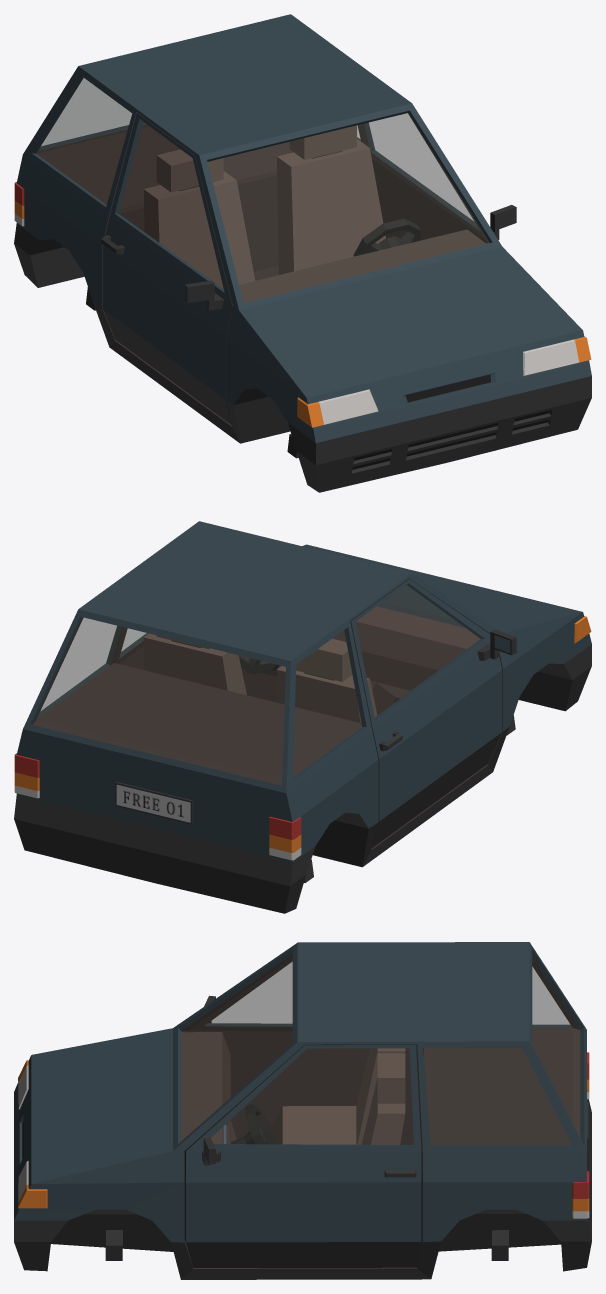
File: lowPolyTruck.gltf
The picture shows the model from 3 angles, top to bottom: view 1: azimuth 30°, elevation 25°; view 2: azimuth 150°, elevation 25°; view 3: azimuth 270°, elevation 25°; orthographic projection. The views are drawn at different scales.
Parts seen in each view (by area): view 1: car body, windows, interior, door r, win door r.001, door l, win door l.001; view 2: car body, windows, door r, interior, win door r.001, free number, door l; view 3: car body, door l, windows, win door l.001, interior, door r, win door r.001.
Part boxes in pixels (x1,y1,x2,y2): car body: [14, 14, 591, 492]; windows: [37, 78, 489, 302]; interior: [143, 125, 485, 302]; door r: [101, 113, 232, 424]; win door r.001: [119, 122, 223, 288]; door l: [360, 113, 516, 243]; win door l.001: [365, 113, 478, 229]; car body: [14, 521, 591, 913]; windows: [33, 585, 464, 785]; door r: [350, 579, 516, 847]; interior: [143, 606, 480, 722]; win door r.001: [355, 585, 479, 716]; free number: [115, 782, 193, 824]; door l: [114, 627, 148, 669]; car body: [14, 942, 591, 1279]; door l: [184, 1044, 422, 1267]; windows: [181, 955, 579, 1144]; win door l.001: [211, 1048, 413, 1144]; interior: [181, 1032, 405, 1144]; door r: [186, 957, 413, 1144]; win door r.001: [205, 963, 291, 1026].
Size of the model in its own units: 2.18 by 1.51 by 3.46.
2 materials, 2 textured.
